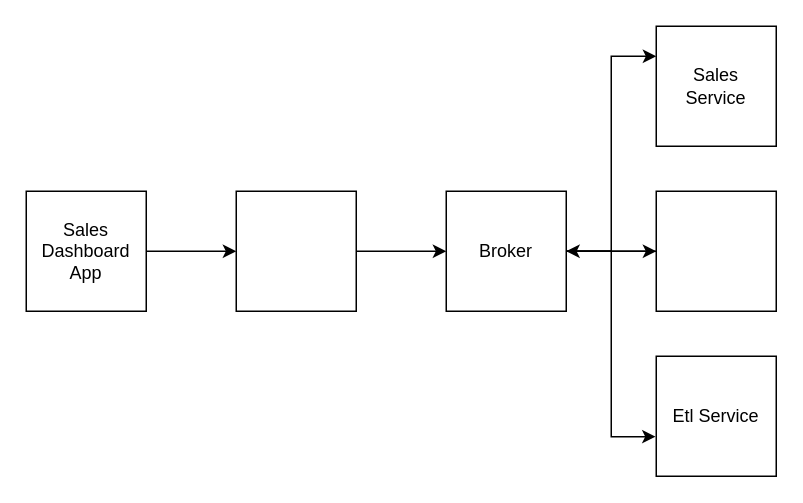
Some shapes in this 803 by 503 pixel diagram are drawn without their labels. The shapes that lost their labels are listed below. From the top down, each one's box as (x1, y1, x2, y2) in pixels, then its label:
(235, 190, 356, 311): Api Gateway
(655, 190, 776, 311): Analytics Service
